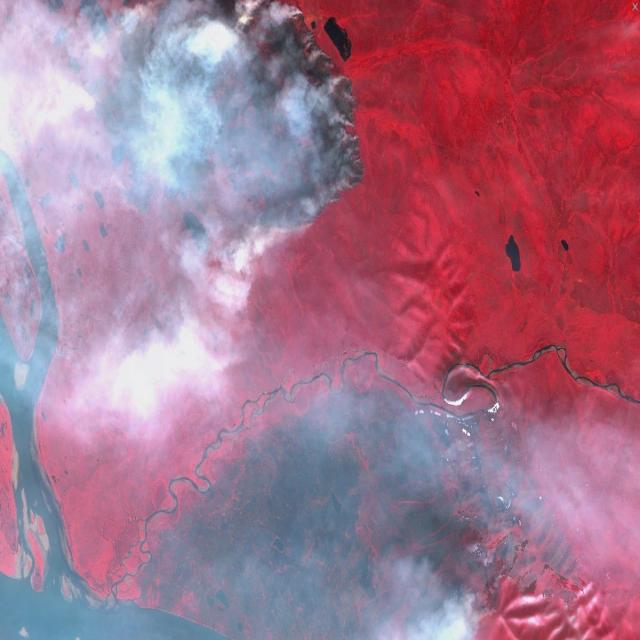fire: (124, 0, 372, 263)
